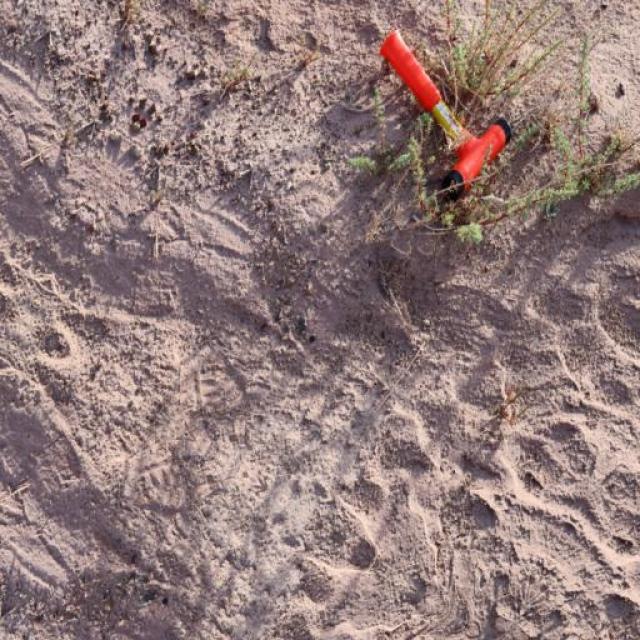mallet: (378, 28, 512, 202)
